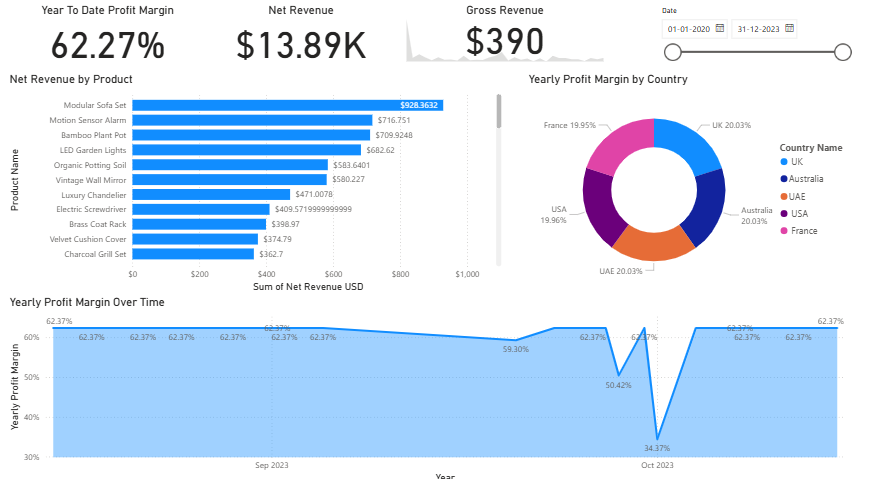

Layout of this report page (visuals, bound fields, positions):
{"tool":"powerbi","page":{"name":"Profit Overview","canvas":[1280,720],"ordinal":1},"visuals":[{"type":"clusteredBarChart","title":"Net Revenue by Product","fields":{"Category":["Sales in USD.Product Name"],"Y":["Sum(Sales in USD.Net Revenue USD)"]},"box":[10.2,103.9,730.2,336.6],"z":0},{"type":"donutChart","title":"Yearly Profit Margin by Country","fields":{"Category":["Sales in USD.Country Name"],"Y":["Sales in USD.Yearly Profit Margin"]},"box":[769.8,103.9,485.9,336.6],"z":1000},{"type":"areaChart","title":"Yearly Profit Margin Over Time","fields":{"Y":["Sales in USD.Yearly Profit Margin"],"Category":["CalendarTable.Date.Variation.Date Hierarchy.Year","CalendarTable.Date.Variation.Date Hierarchy.Quarter","CalendarTable.Date.Variation.Date Hierarchy.Month","CalendarTable.Date.Variation.Date Hierarchy.Day"]},"box":[10.2,440.5,1245.4,279.5],"z":2000},{"type":"card","fields":{"Values":["Sum(Sales in USD.Net Revenue USD)"]},"box":[292.7,0,298.5,103.9],"z":3000},{"type":"kpi","fields":{"Indicator":["Sum(Sales in USD.Gross Revenue USD)"],"TrendLine":["CalendarTable.Date"]},"box":[591.2,0,298.5,103.9],"z":4000},{"type":"slicer","fields":{"Values":["CalendarTable.Date"]},"box":[957.1,0,298.5,103.9],"z":5000},{"type":"card","fields":{"Values":["Sales in USD.Year To Date Profit"]},"box":[24.9,0,267.8,103.9],"z":6000}]}

Visuals, with their boxes in screenshot pixels (x1, y1, x2, y2), scaled from the page's 1280x720 canvas onto the 870x479 screenshot:
"Net Revenue by Product" clusteredBarChart: [7, 69, 503, 293]
"Yearly Profit Margin by Country" donutChart: [523, 69, 853, 293]
"Yearly Profit Margin Over Time" areaChart: [7, 293, 853, 478]
card - Sum(Sales in USD.Net Revenue USD): [199, 0, 402, 69]
kpi - Sum(Sales in USD.Gross Revenue USD) x CalendarTable.Date: [402, 0, 605, 69]
slicer - CalendarTable.Date: [651, 0, 853, 69]
card - Sales in USD.Year To Date Profit: [17, 0, 199, 69]
